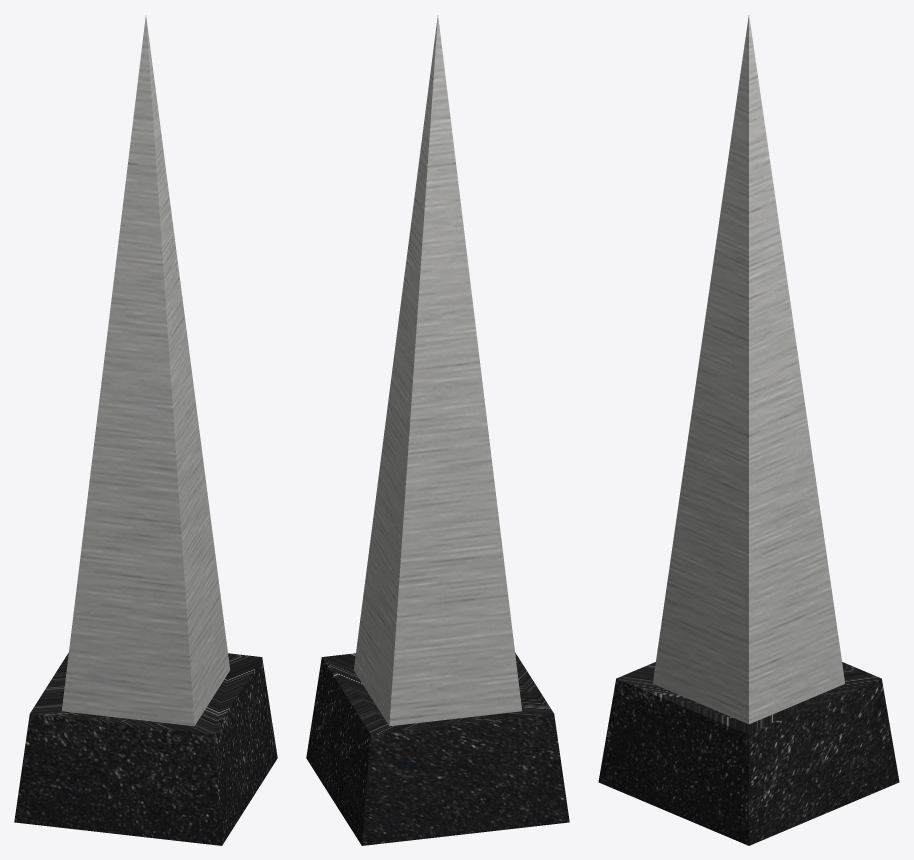
Rendered from spike-textured.fbx.
3 views of the same model, side by side, from view 1: azimuth 30°, elevation 25°; view 2: azimuth 150°, elevation 25°; view 3: azimuth 270°, elevation 25° (orthographic).
Visible parts, largest first — view 1: pPyramid1; view 2: pPyramid1; view 3: pPyramid1.
Boxes of the visible parts, bbox=[...] form: pPyramid1: bbox=[14, 15, 277, 845]; pPyramid1: bbox=[306, 15, 569, 845]; pPyramid1: bbox=[598, 15, 899, 845].
Bounding box in the file's own units: 1.76 × 4.95 × 1.76.
Materials: 2 (2 with a texture image).
